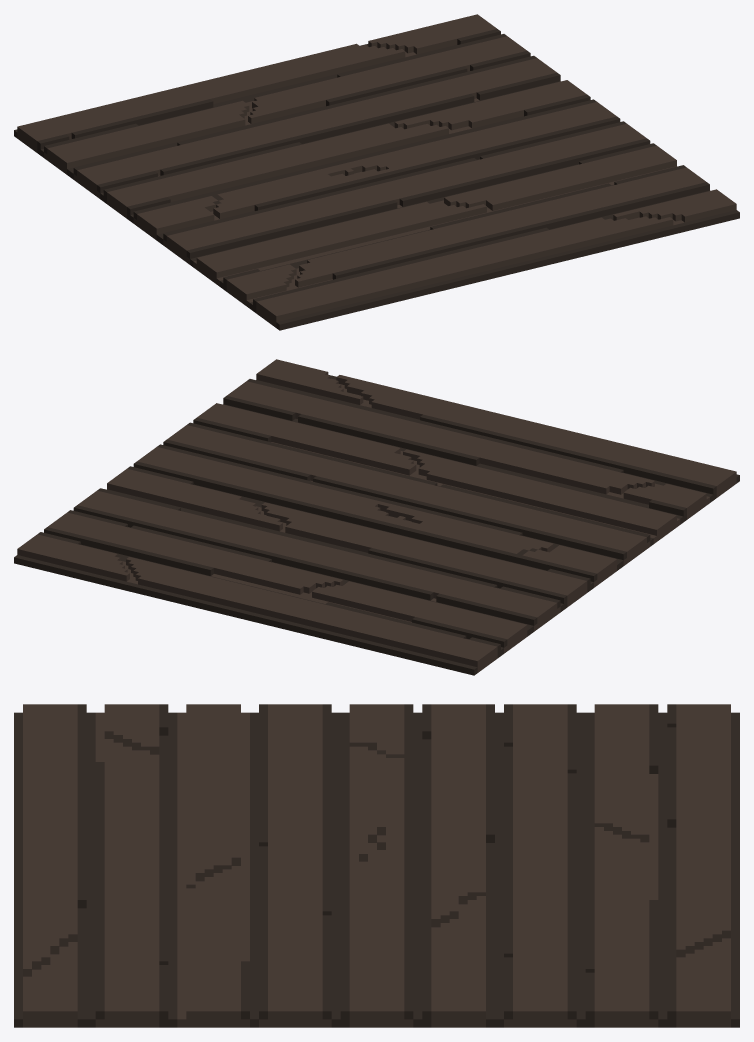
File: FloorBroken.obj
3 renders of one model, top to bottom at view 1: azimuth 30°, elevation 25°; view 2: azimuth 150°, elevation 25°; view 3: azimuth 270°, elevation 25°, orthographic. The views are drawn at different scales.
Size of the model in its own units: 8 by 0.2 by 8.
Materials: 1 (1 with a texture image).
